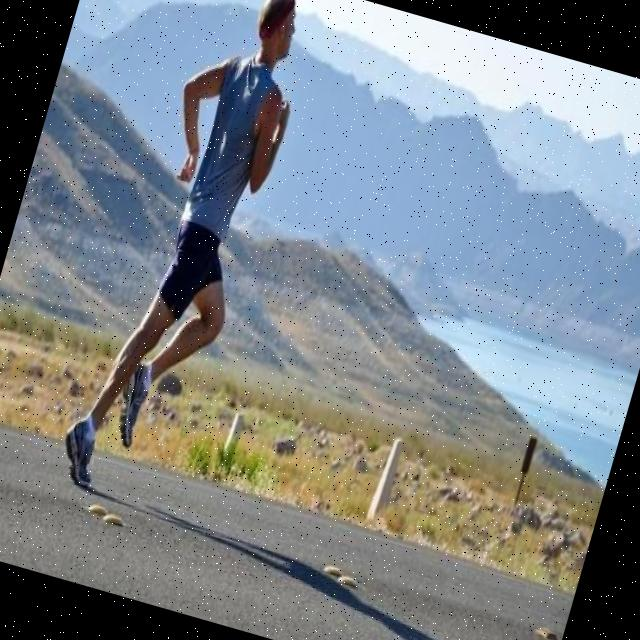Person: (54, 0, 323, 513)
